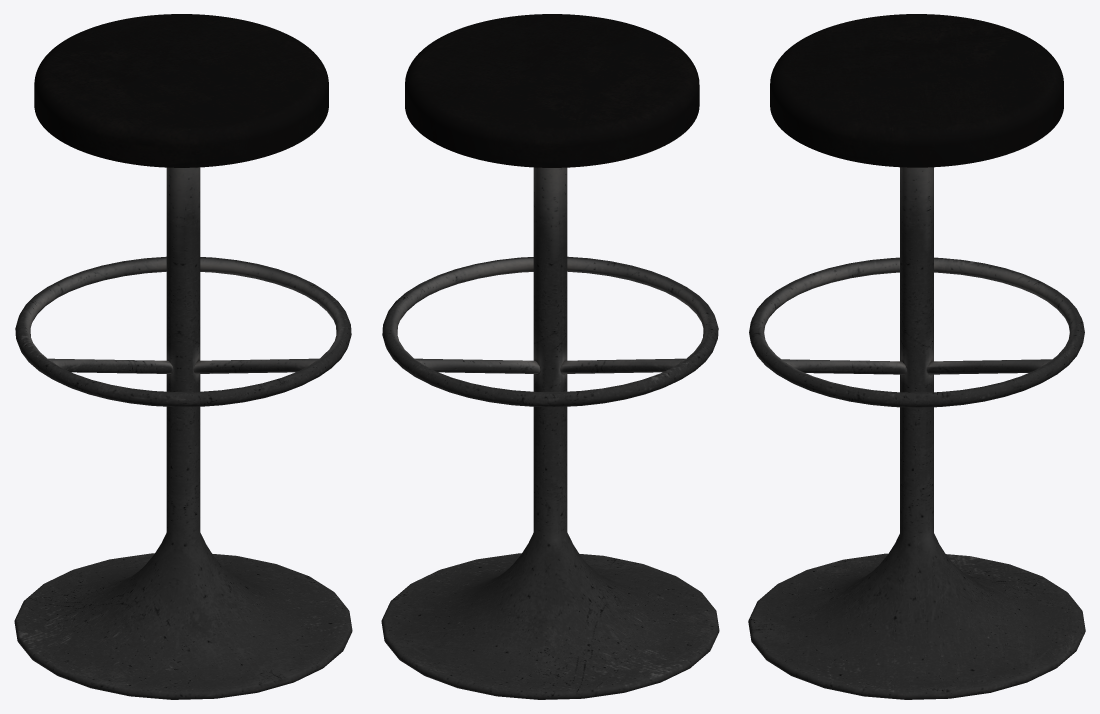
File: game_hall_stool.fbx
3 renders of one model, left to right at view 1: azimuth 30°, elevation 25°; view 2: azimuth 150°, elevation 25°; view 3: azimuth 270°, elevation 25°, orthographic.
Visible parts, largest first — view 1: Mesh8 skpA2CF1 Model; view 2: Mesh8 skpA2CF1 Model; view 3: Mesh8 skpA2CF1 Model.
Part boxes in pixels (x1,y1,x2,y2): Mesh8 skpA2CF1 Model: (14, 14, 352, 699); Mesh8 skpA2CF1 Model: (381, 14, 719, 699); Mesh8 skpA2CF1 Model: (748, 14, 1085, 699).
Bounding box in the file's own units: 40.17 × 73.3 × 40.17.
2 materials, 1 textured.
